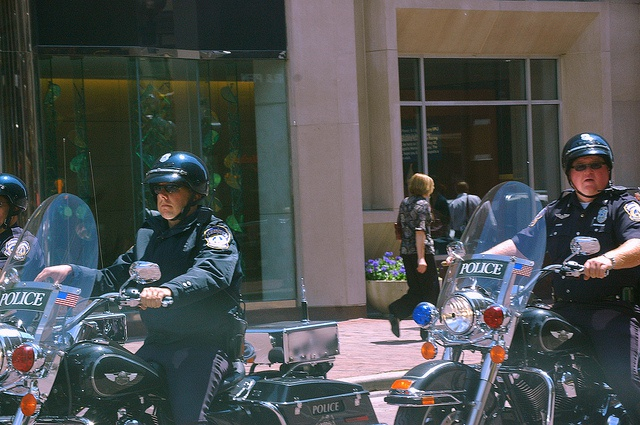non-vehicle: (1, 194, 379, 420), (387, 181, 625, 419)
